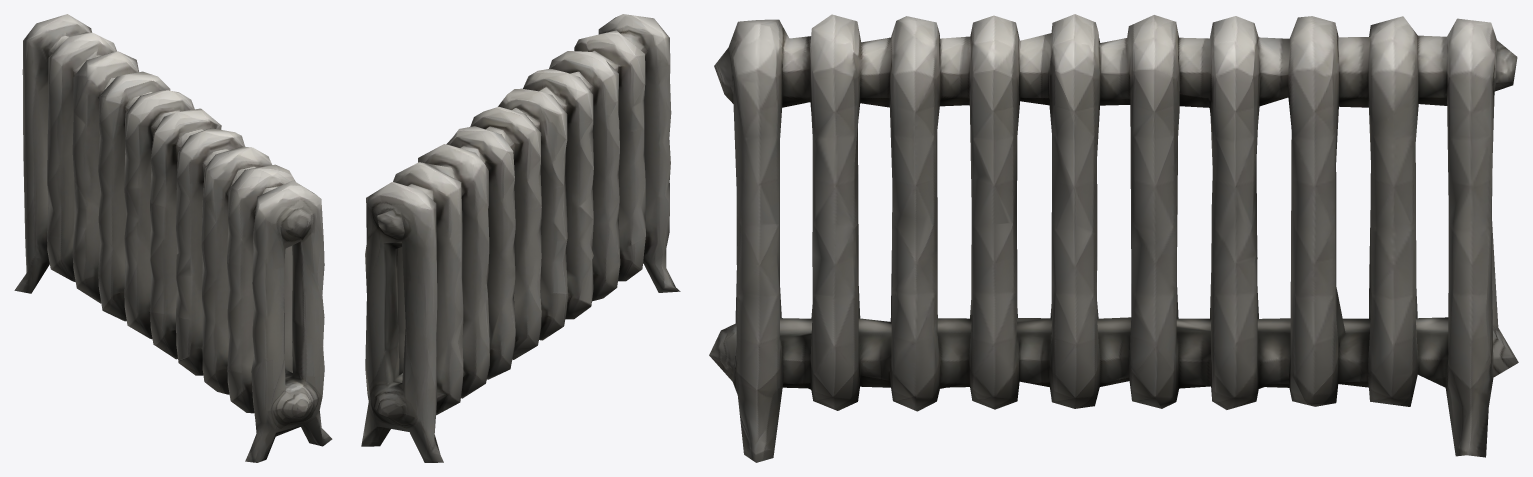
File: radiator_long.glb
3 views of the same model, side by side, from view 1: azimuth 30°, elevation 25°; view 2: azimuth 150°, elevation 25°; view 3: azimuth 270°, elevation 25° (orthographic). The views are drawn at different scales.
Visible parts, largest first — view 1: tripo_node_aaf57b19-b090-4105-8fcf-cf74f3b7744c; view 2: tripo_node_aaf57b19-b090-4105-8fcf-cf74f3b7744c; view 3: tripo_node_aaf57b19-b090-4105-8fcf-cf74f3b7744c.
Boxes of the visible parts, left/top/right/bottom form: tripo_node_aaf57b19-b090-4105-8fcf-cf74f3b7744c: left=14, top=14, right=332, bottom=462; tripo_node_aaf57b19-b090-4105-8fcf-cf74f3b7744c: left=361, top=14, right=680, bottom=462; tripo_node_aaf57b19-b090-4105-8fcf-cf74f3b7744c: left=709, top=14, right=1518, bottom=462.
Bounding box in the file's own units: 0.1942 × 0.5617 × 1.
1 material, 1 textured.
